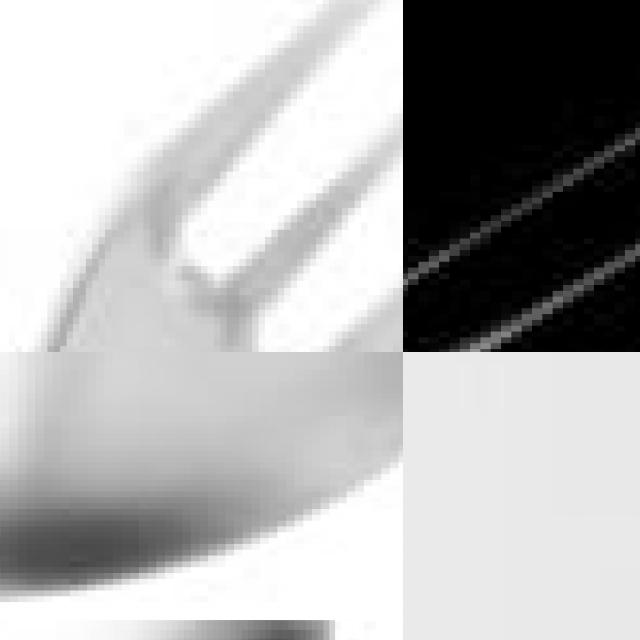forks: (0, 0, 403, 352), (403, 0, 640, 352)
spoons: (0, 352, 403, 640)
